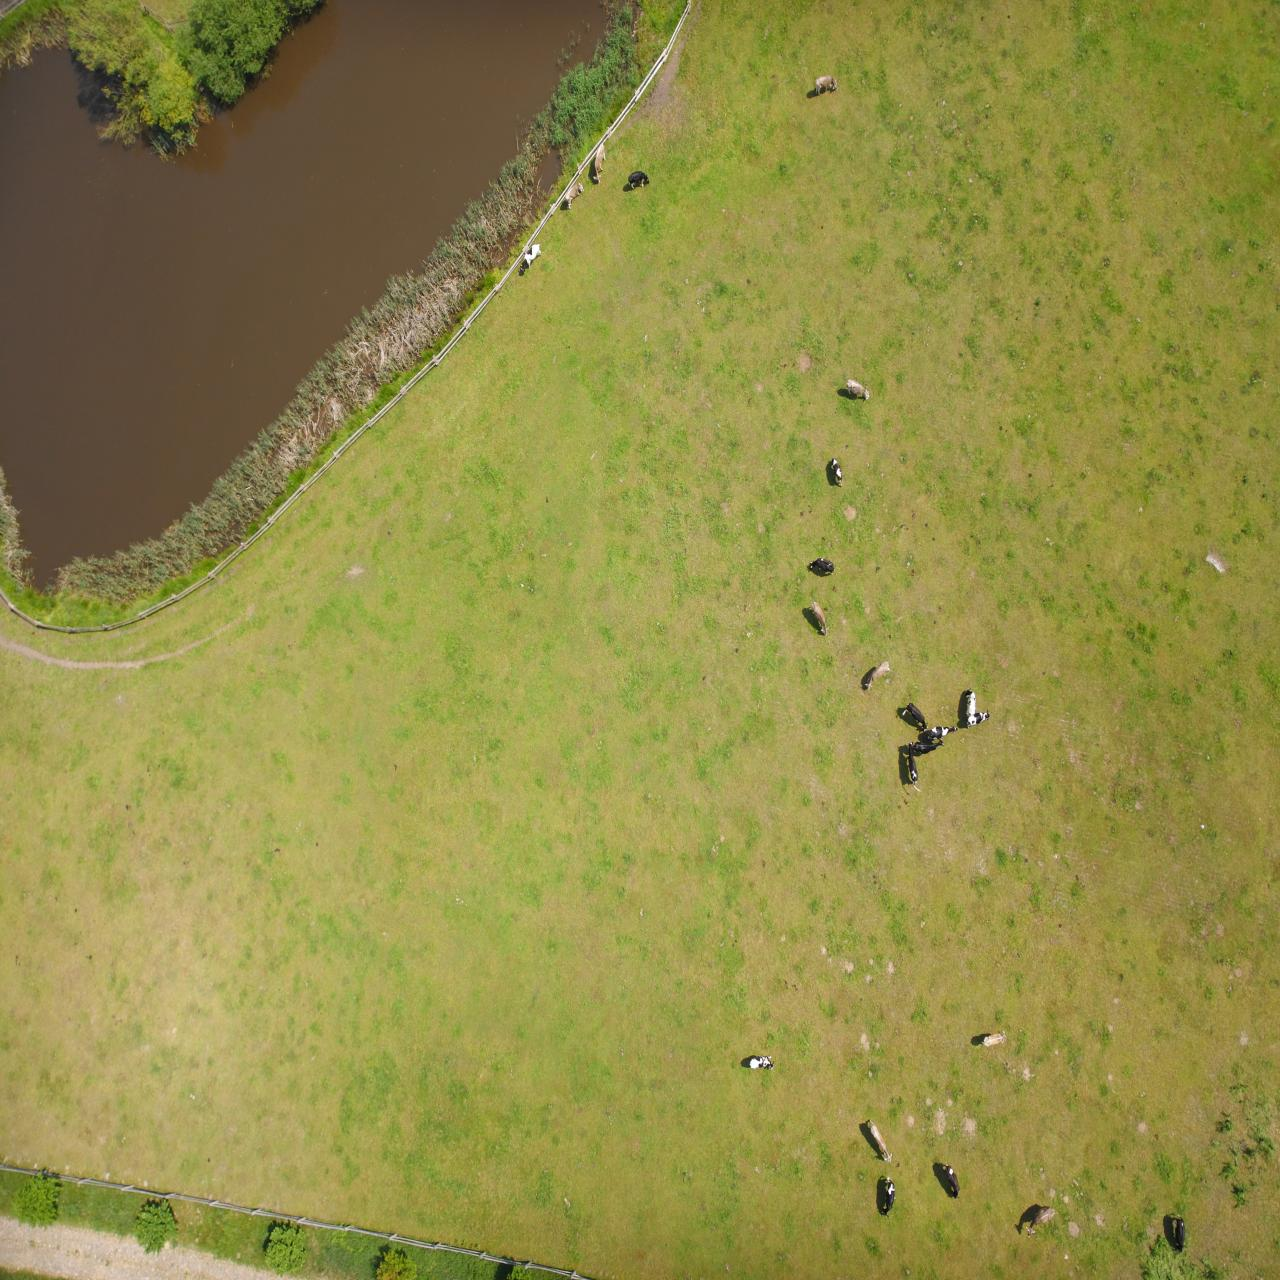cow: (388, 116, 410, 161), (225, 42, 254, 73), (390, 590, 415, 620), (352, 549, 377, 577), (451, 644, 469, 679), (738, 1008, 760, 1036), (360, 488, 372, 538), (384, 61, 397, 103), (696, 1069, 715, 1097), (320, 80, 334, 116), (95, 27, 107, 67), (410, 880, 434, 900), (442, 1185, 465, 1205), (445, 704, 470, 723), (336, 525, 366, 539), (675, 1097, 686, 1136), (631, 1090, 652, 1109), (291, 552, 314, 568), (324, 542, 353, 554), (273, 233, 298, 248), (506, 210, 530, 225), (437, 792, 448, 821), (305, 564, 314, 591)
